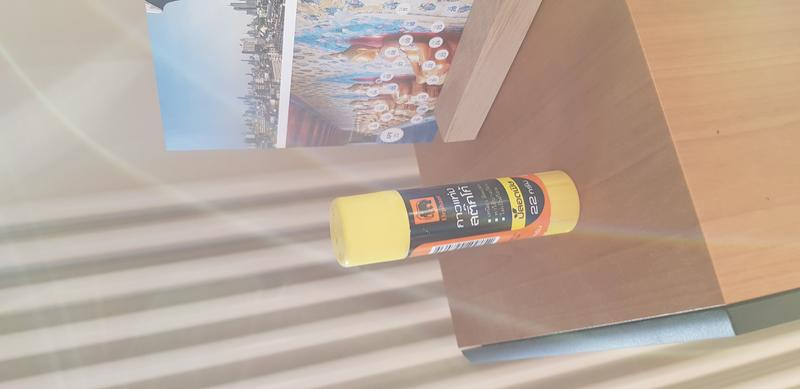Glue-Stick: (323, 165, 589, 270)
